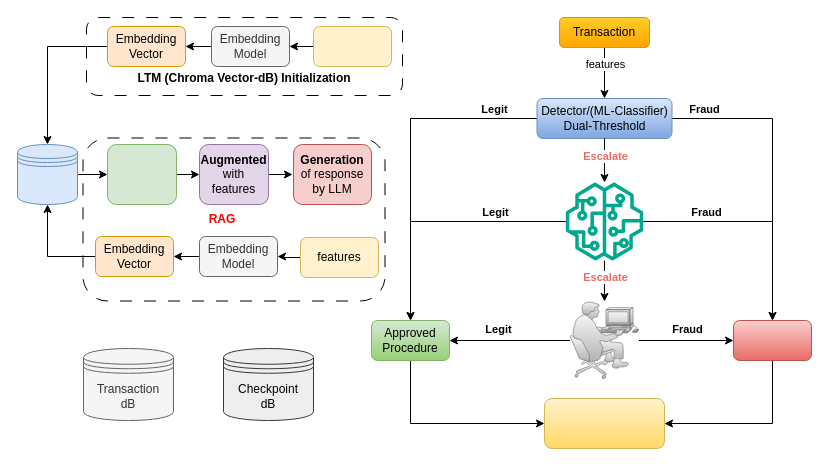
Some shapes in this 829 by 474 pixel diagram are drawn without their labels. Here are the shapes that lost their labels. From the top down, the box of each, then its label:
(312, 26, 392, 66): LTM Training Dataset
(16, 144, 78, 204): Vector dB
(106, 144, 176, 204): Reterival top_n closest
(82, 137, 385, 301): LLM-Tool (get-context)
(732, 320, 812, 360): Blocked Procedure
(544, 398, 664, 448): dB update: Transaction and LTM
